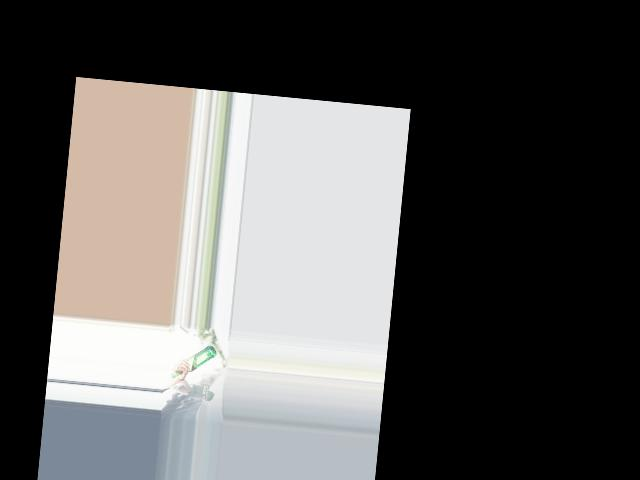beer: (171, 342, 217, 383)
